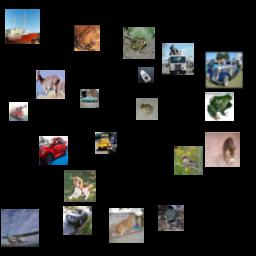airplane: (1, 209, 39, 247)
automobile: (205, 51, 243, 89), (63, 206, 92, 235), (39, 136, 68, 165), (80, 89, 99, 108)
bird: (174, 146, 203, 175)
cat: (205, 132, 240, 167), (109, 208, 144, 243)
deer: (36, 70, 65, 99)
dog: (64, 170, 96, 202)
frog: (123, 27, 155, 59), (205, 92, 234, 121), (74, 25, 100, 51), (158, 205, 184, 231), (136, 98, 158, 120)
ship: (5, 9, 40, 44), (138, 67, 154, 83)
truck: (162, 43, 194, 75), (95, 132, 117, 154), (9, 102, 28, 121)
